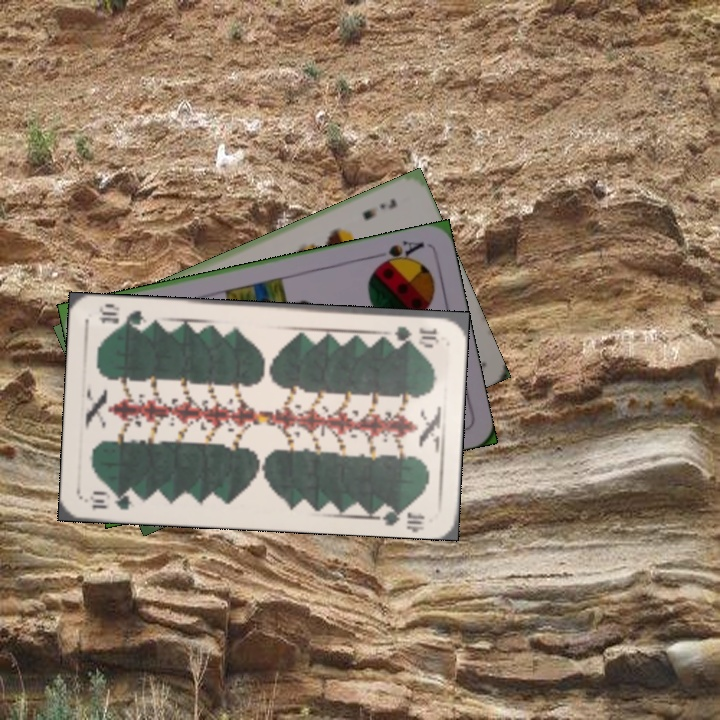E7: (358, 194, 400, 223)
G10: (86, 486, 134, 513), (390, 322, 441, 345)
SA: (369, 236, 427, 270)
